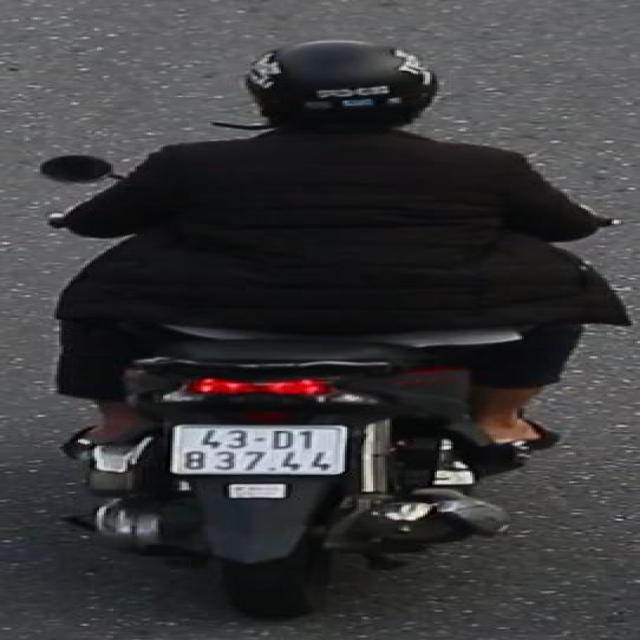LP: (165, 420, 352, 479)
helmet: (233, 38, 438, 149)
